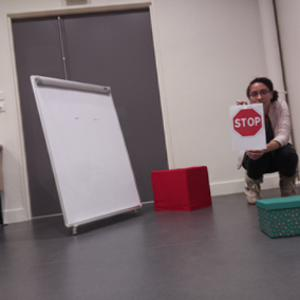stop: (232, 108, 263, 137)
